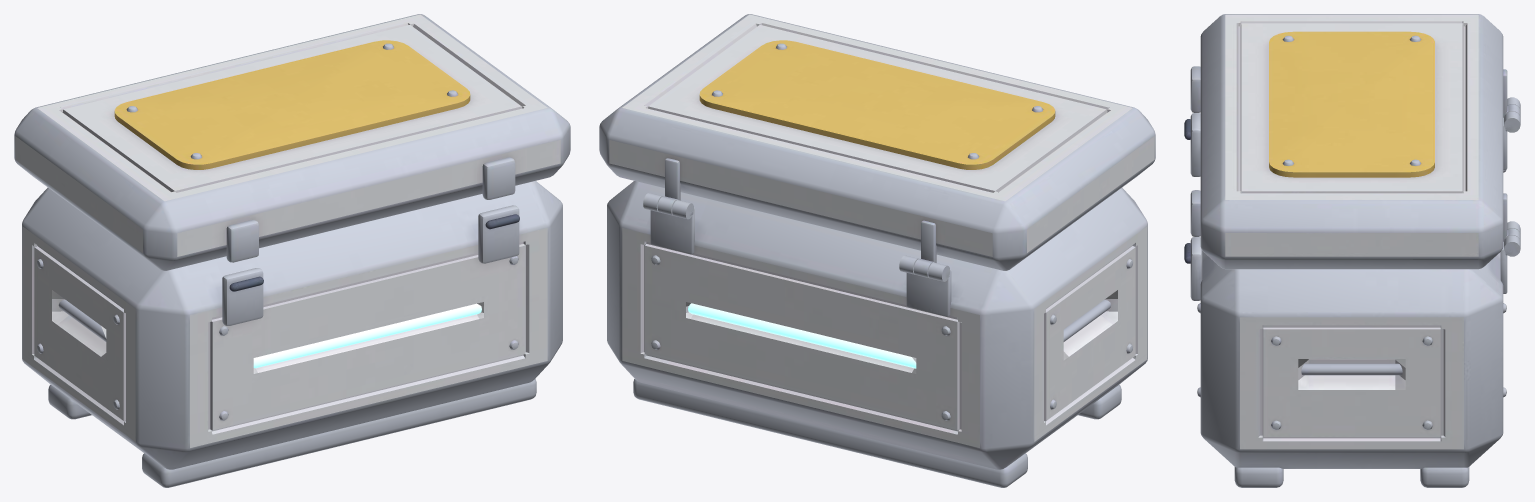
The model's file is caja_scifi.glb.
The picture shows the model from 3 angles, left to right: view 1: azimuth 30°, elevation 25°; view 2: azimuth 150°, elevation 25°; view 3: azimuth 270°, elevation 25°; orthographic projection.
Parts seen in each view (by area): view 1: sci-fi-crate_body; view 2: sci-fi-crate_body; view 3: sci-fi-crate_body.
Boxes of the visible parts, x1=… form: sci-fi-crate_body: x1=14, y1=14, x2=570, y2=487; sci-fi-crate_body: x1=599, y1=14, x2=1155, y2=487; sci-fi-crate_body: x1=1184, y1=14, x2=1520, y2=487.
Size of the model in its own units: 1.01 by 0.68 by 0.688.
Materials: 3 (2 with a texture image).
